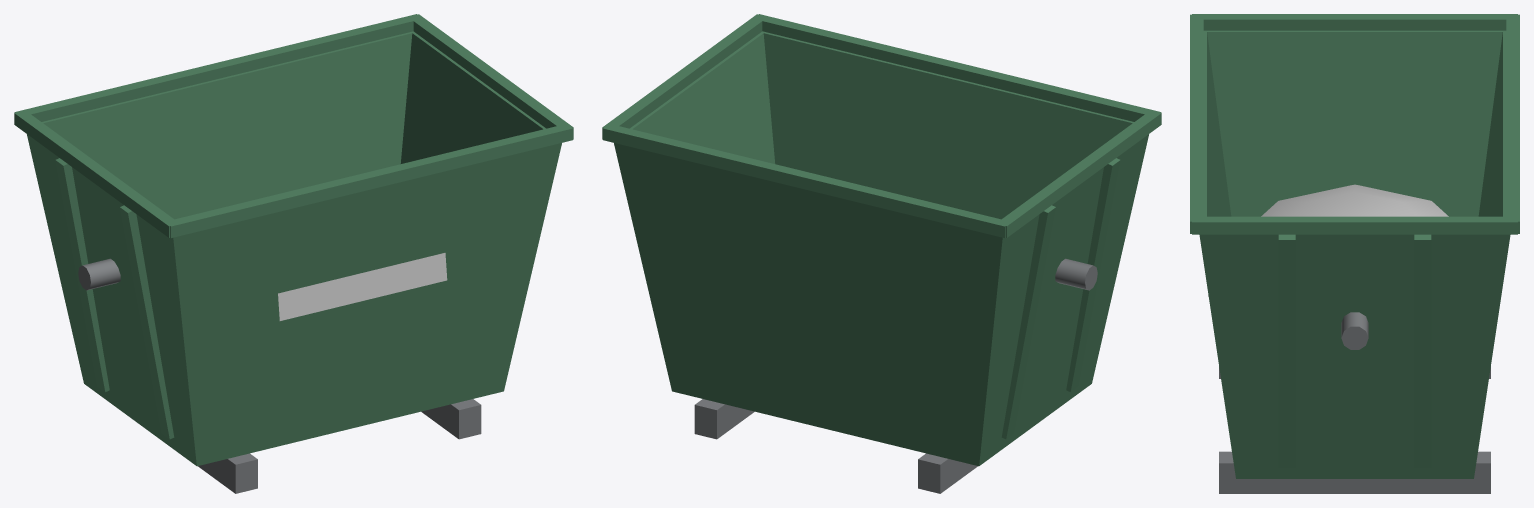
The model's file is container_trash_green.glb.
3 views of the same model, side by side, from view 1: azimuth 30°, elevation 25°; view 2: azimuth 150°, elevation 25°; view 3: azimuth 270°, elevation 25° (orthographic). The views are drawn at different scales.
Visible parts, largest first — view 1: container_trash_green; view 2: container_trash_green; view 3: container_trash_green.
Boxes of the visible parts, x1,y1,x2,y2 form: container_trash_green: (14, 14, 573, 493); container_trash_green: (602, 14, 1161, 493); container_trash_green: (1190, 14, 1519, 493).
Bounding box in the file's own units: 1.5 × 1.01 × 0.97.
